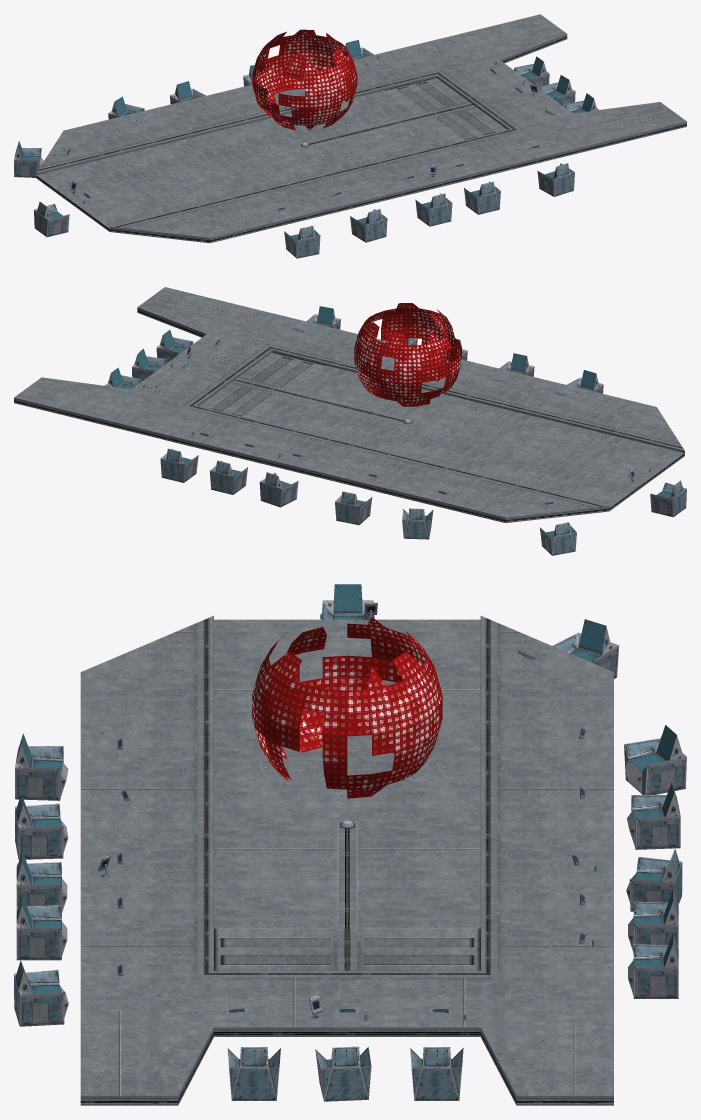
File: frn_impl_table_giant_s01_l2.fbx
3 renders of one model, top to bottom at view 1: azimuth 30°, elevation 25°; view 2: azimuth 150°, elevation 25°; view 3: azimuth 270°, elevation 25°, orthographic. The views are drawn at different scales.
Parts seen in each view (by area): view 1: mesh_node; view 2: mesh_node; view 3: mesh_node.
Part boxes in pixels (left/top/right/bottom): mesh_node: left=14, top=14, right=686, bottom=258; mesh_node: left=14, top=287, right=686, bottom=555; mesh_node: left=14, top=584, right=686, bottom=1105.
Bounding box in the file's own units: 21.2 × 4.4 × 11.85.
